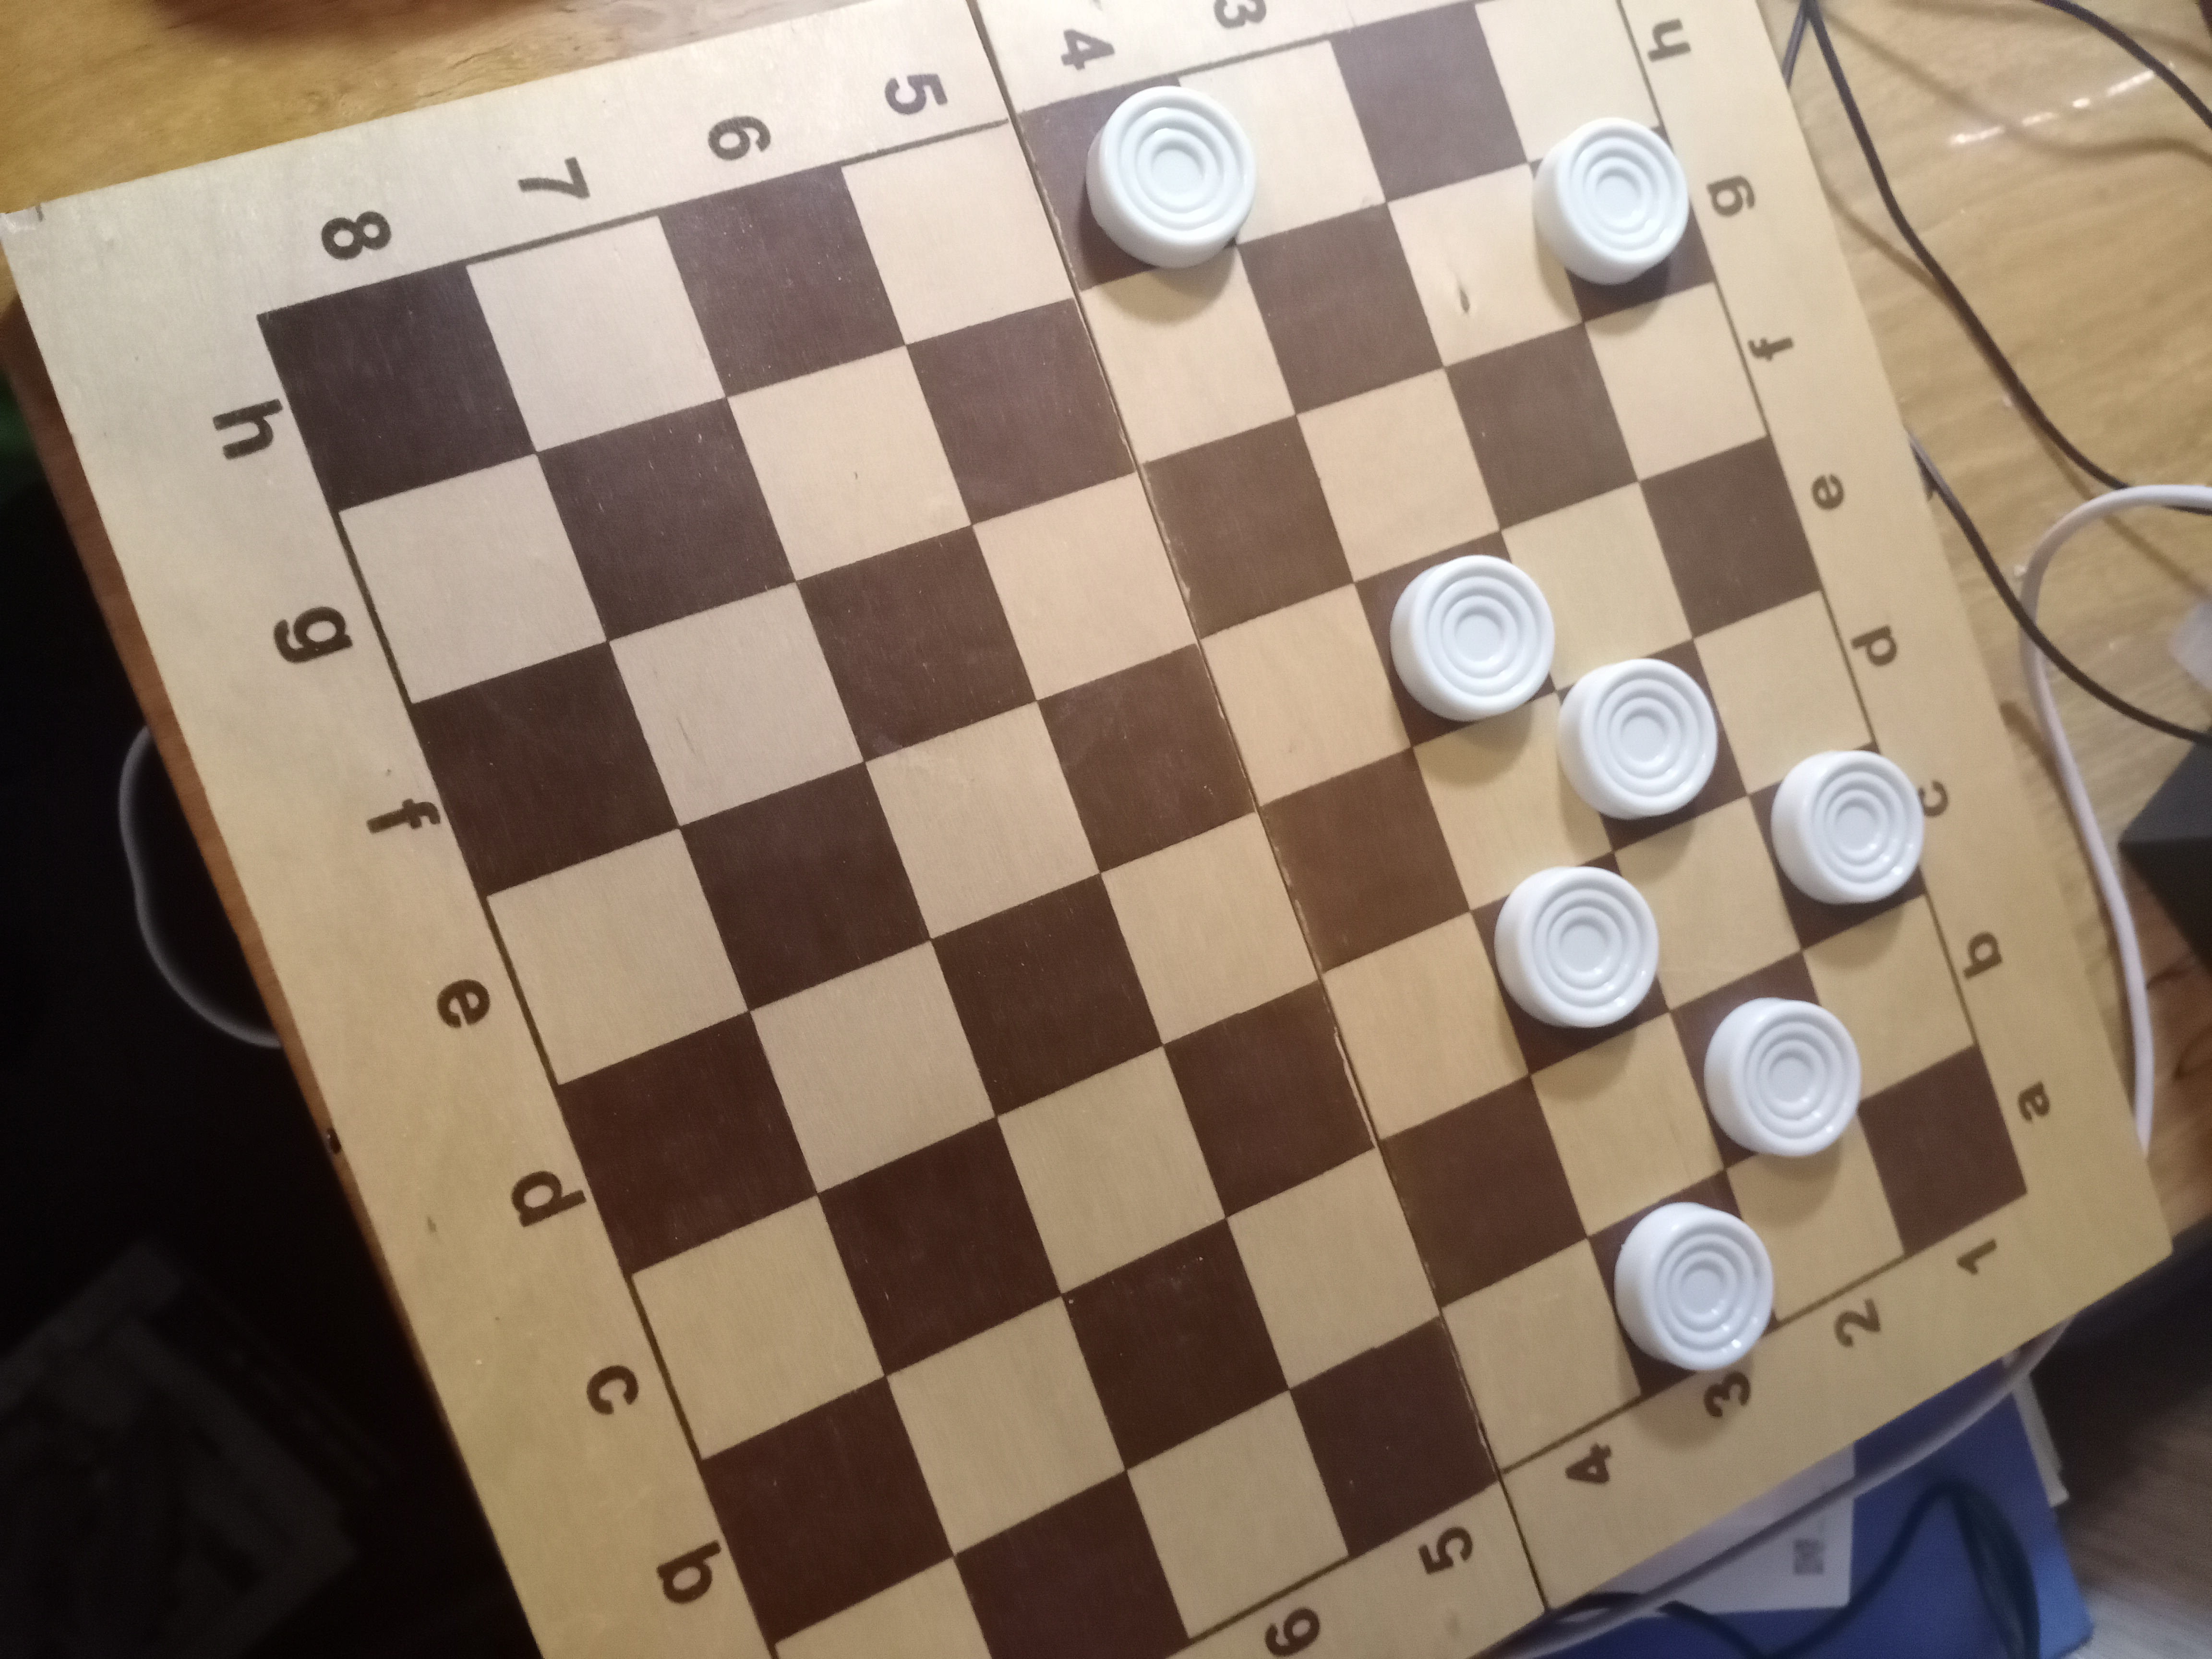White_Draught: (1014, 77, 1258, 291), (1470, 854, 1669, 1077), (1353, 530, 1557, 746), (1588, 1169, 1778, 1392), (1669, 953, 1862, 1169), (1557, 640, 1747, 854), (1747, 741, 1928, 951), (1529, 118, 1714, 322)
